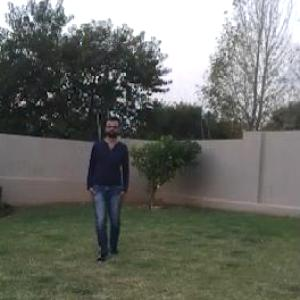follow: (82, 111, 135, 266)
